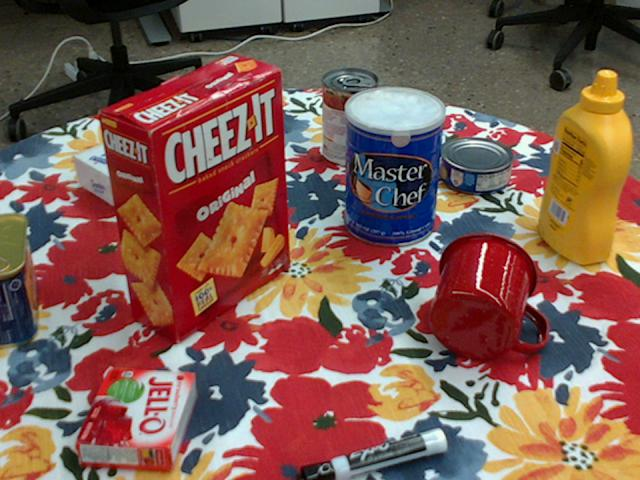cracker_box: (94, 54, 285, 341)
gelatin_box: (78, 368, 196, 470)
large_marker: (296, 428, 448, 479)
master_chef_can: (345, 86, 445, 248)
mug: (431, 232, 548, 360)
mustard_bottle: (536, 71, 630, 265)
potted_meat_can: (0, 212, 36, 346)
sugar_box: (72, 110, 238, 213)
tomato_soup_can: (321, 68, 377, 167)
tuna_fish_can: (441, 138, 514, 195)
